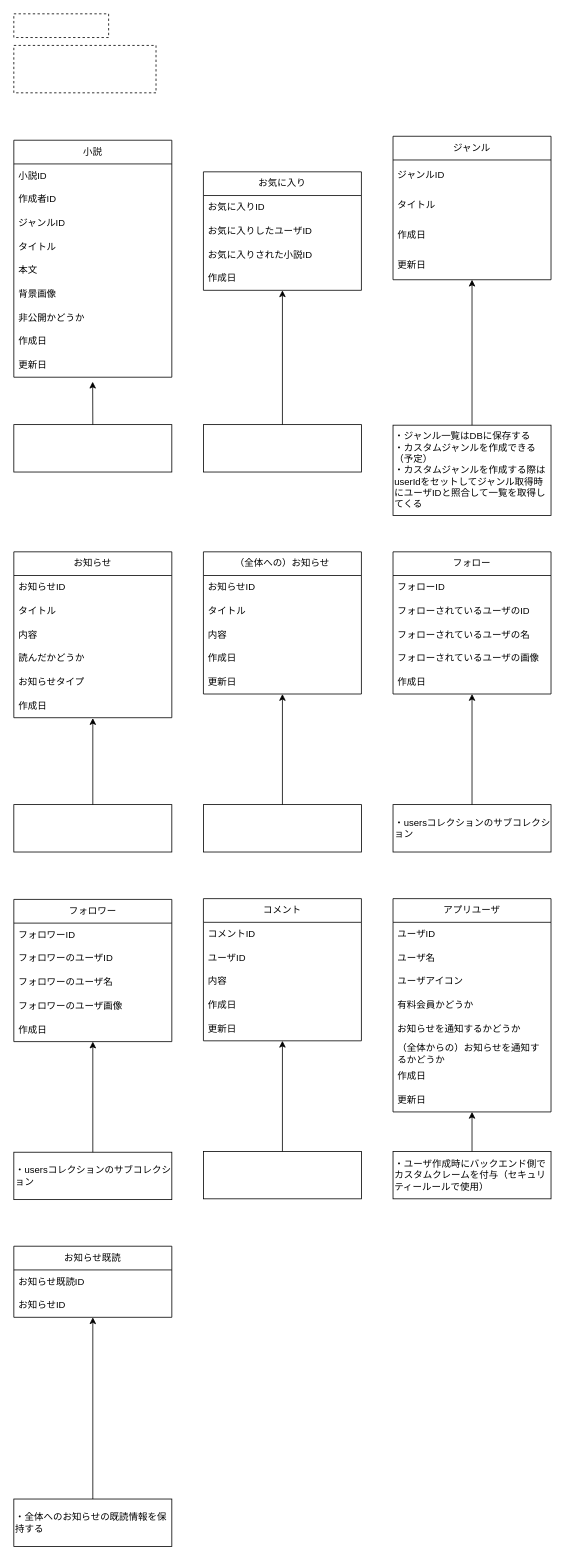
Image size: 565x1560. Some labels were removed from this diagram. The centre of each missing label's shape, as x and y in pixels:
"ドメインモデリング" goes at (61,25).
"・novelsコレクションのサブコレクションとして作成する。" goes at (282,1175).
"・お気に入りのデータはボタンタップ毎に作成、削除を行う" goes at (282,448).
"・お知らせのタイプはint型で保存する。 ・更新はないので更新日は削除" goes at (92,828).
"・タイトルは50文字以内 ・本文は10万字以内 ・タイトルと本文はnullも空文字を許容しない" goes at (92,448).
"・読んだかどうかはUserコレクションのサブコレクションとしてreadAnnouncementsコレクションを作成して管理する" goes at (282,828).
"業務知識をここにまとめてビジネスサイドと開発サイドの仲介役としての役割を果たす。" goes at (84,69).
